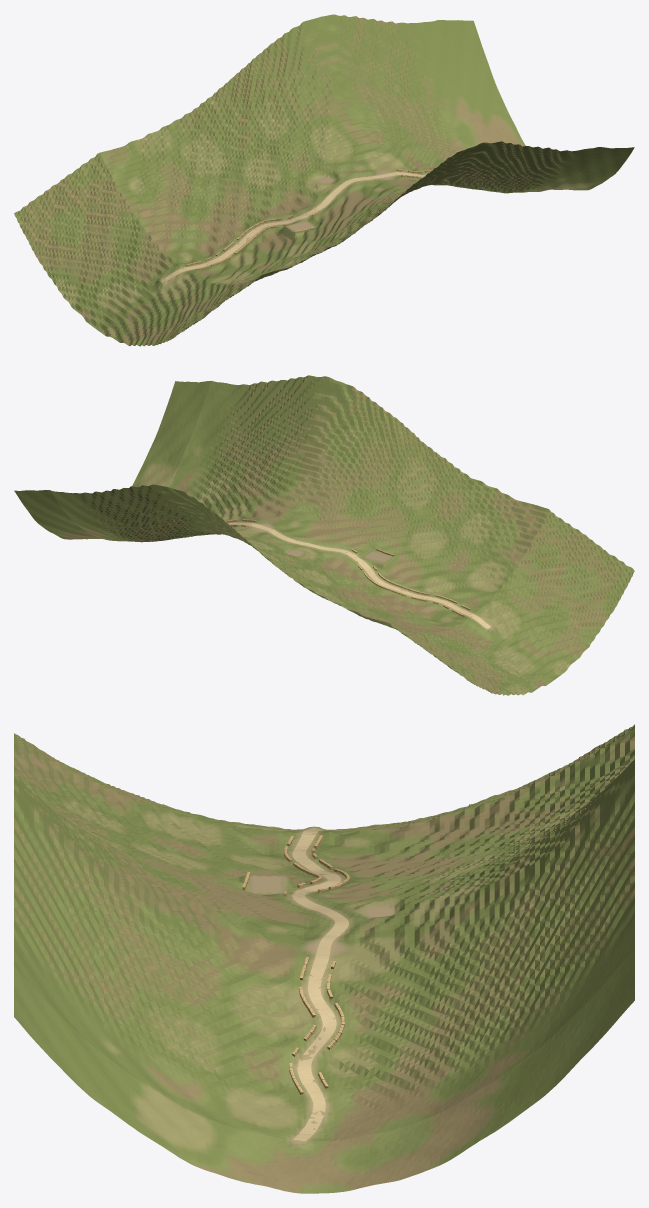
File: oliveiras_cenario.glb
3 renders of one model, top to bottom at view 1: azimuth 30°, elevation 25°; view 2: azimuth 150°, elevation 25°; view 3: azimuth 270°, elevation 25°, orthographic. The views are drawn at different scales.
Visible parts, largest first — view 1: Oliveiras_Terreno, Oliveiras_Estrada; view 2: Oliveiras_Terreno, Oliveiras_Estrada; view 3: Oliveiras_Terreno, Oliveiras_Estrada.
Boxes of the visible parts, x1=… form: Oliveiras_Terreno: x1=14, y1=14, x2=634, y2=346; Oliveiras_Estrada: x1=164, y1=172, x2=426, y2=280; Oliveiras_Terreno: x1=14, y1=375, x2=634, y2=695; Oliveiras_Estrada: x1=228, y1=522, x2=490, y2=628; Oliveiras_Terreno: x1=14, y1=724, x2=634, y2=1193; Oliveiras_Estrada: x1=292, y1=830, x2=348, y2=1141.
Bounding box in the file's own units: 204 × 75.25 × 124.
3 materials, 1 textured.
